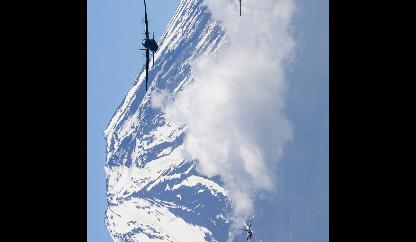Be200: (137, 0, 158, 90), (242, 212, 253, 239), (230, 0, 246, 17)
